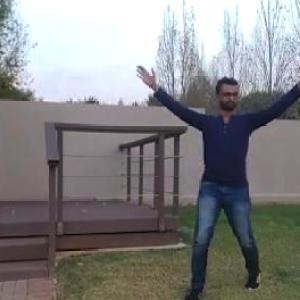takeoff: (120, 52, 300, 299)
